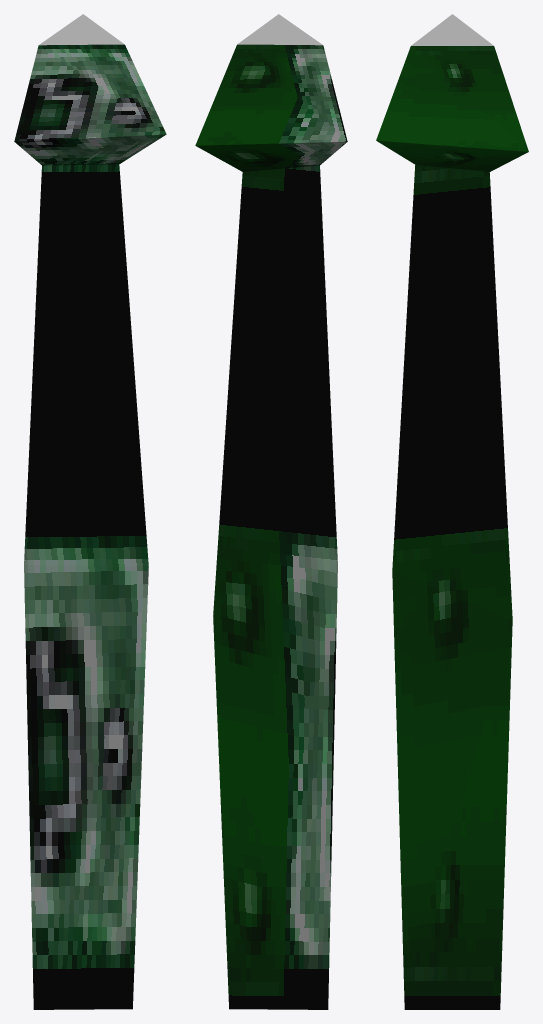
File: Säule_Schlank_349.glb
3 renders of one model, left to right at view 1: azimuth 30°, elevation 25°; view 2: azimuth 150°, elevation 25°; view 3: azimuth 270°, elevation 25°, orthographic.
Visible parts, largest first — view 1: pCylinderShape102, polySurfaceShape1076; view 2: pCylinderShape102, polySurfaceShape1076; view 3: pCylinderShape102, polySurfaceShape1076.
Part boxes in pixels (bbox=[...]): pCylinderShape102: bbox=[14, 44, 166, 1009]; polySurfaceShape1076: bbox=[39, 14, 124, 45]; pCylinderShape102: bbox=[195, 44, 347, 1009]; polySurfaceShape1076: bbox=[237, 14, 322, 45]; pCylinderShape102: bbox=[376, 46, 528, 1009]; polySurfaceShape1076: bbox=[411, 14, 493, 45].
Bounding box in the file's own units: 0.047 × 0.3793 × 0.0547.
2 materials, 1 textured.
